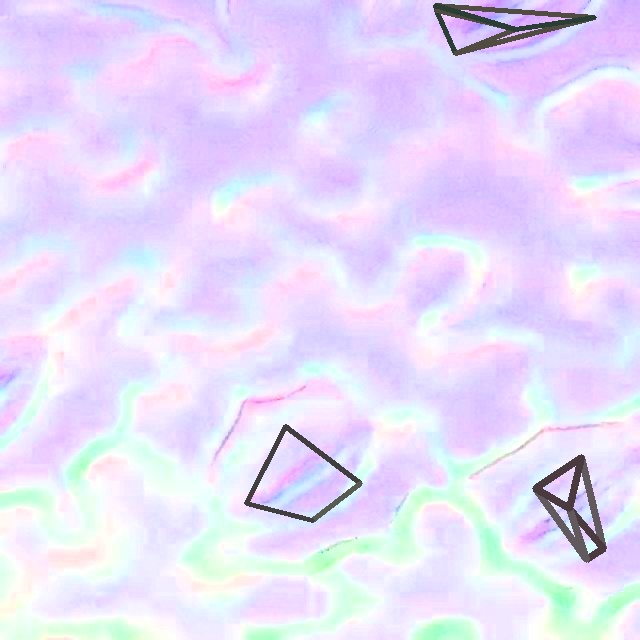open: (244, 425, 361, 521), (434, 3, 596, 55), (532, 454, 606, 562)
